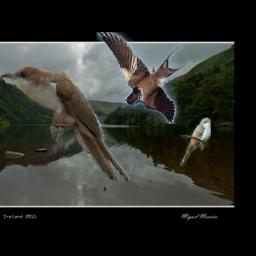Cuckoo: (0, 66, 131, 182), (179, 118, 211, 166)
Swallow: (97, 33, 191, 125)
